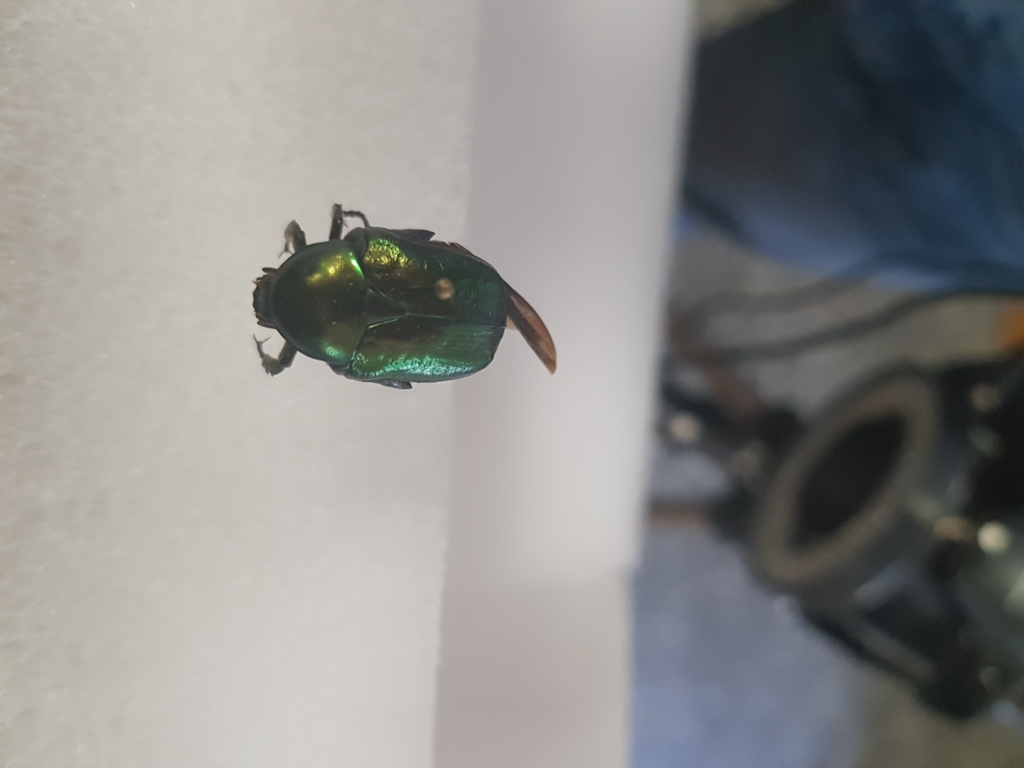Protaetia_angustata_angustata: (227, 193, 573, 398)
